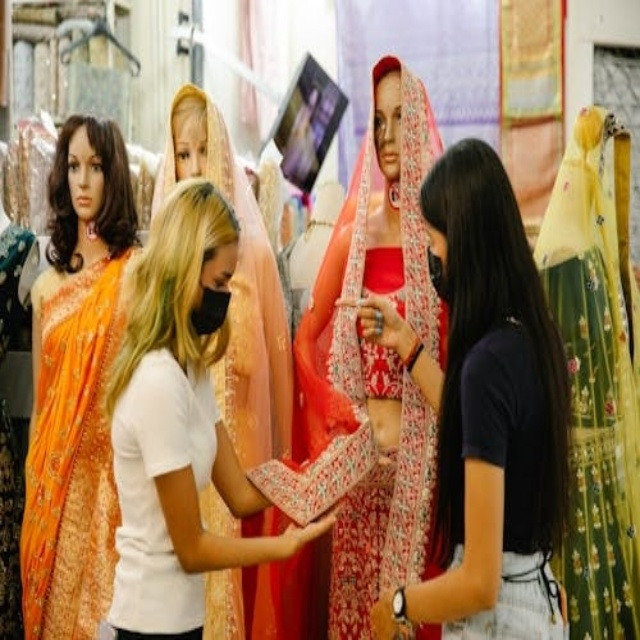Mascara: (190, 285, 232, 335), (427, 247, 447, 304)
Sin_gafas: (64, 150, 104, 175), (175, 136, 207, 165), (375, 104, 402, 133)
Sin_guantes: (334, 281, 419, 371), (278, 504, 340, 569), (361, 575, 407, 638)
Sin_mascara: (74, 188, 96, 211), (379, 148, 398, 165)
